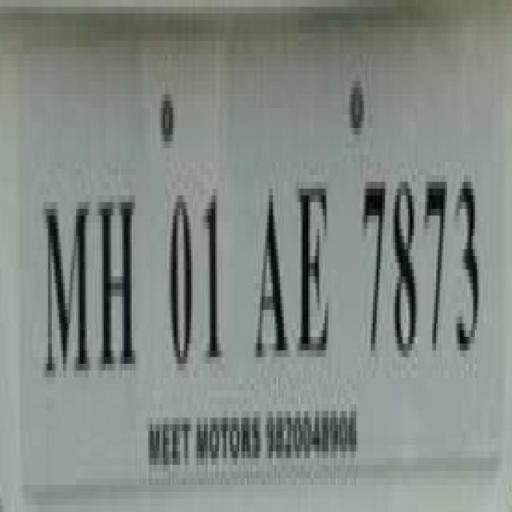number plate: (0, 14, 495, 464)
